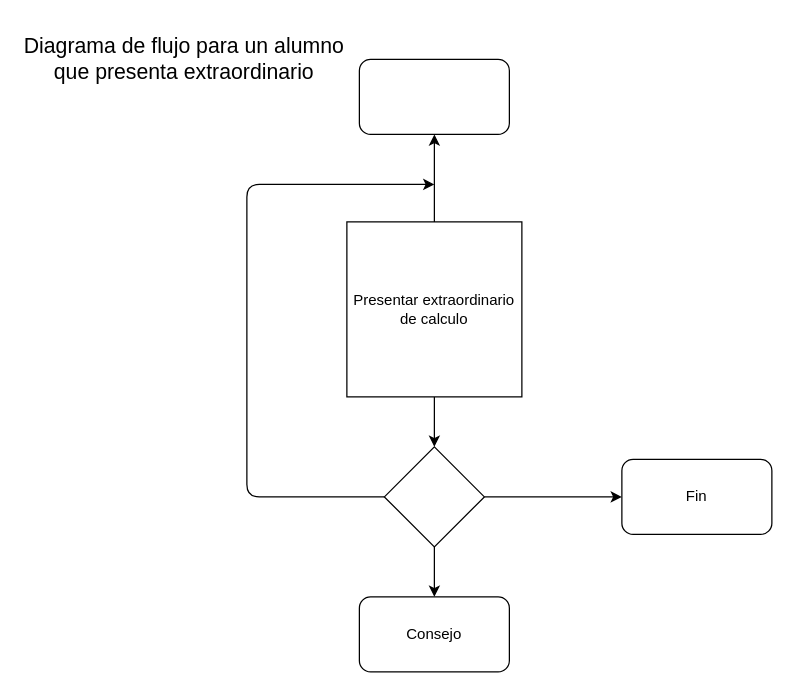
Image size: 794x694. Some labels were removed from this diagram. The box of each missing label's shape, as (x1, y1, x2, y2) in pixels:
cal >=70: (383, 446, 484, 547)
Inicio: (358, 58, 509, 134)
